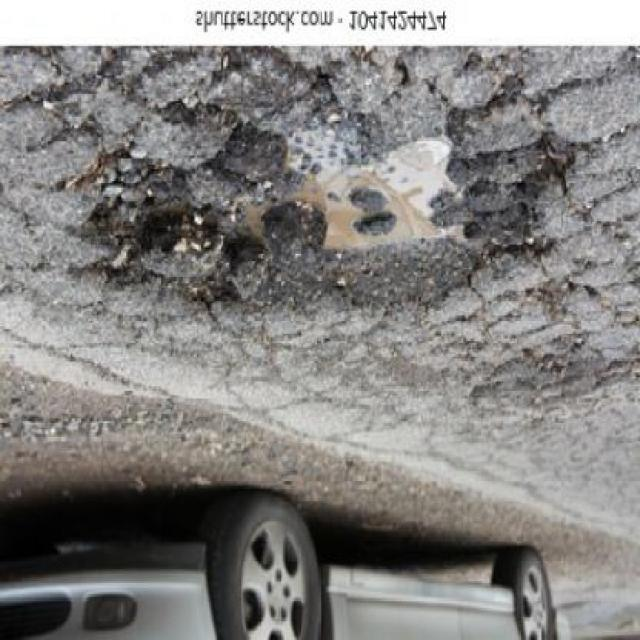Pothole: (73, 96, 511, 319)
